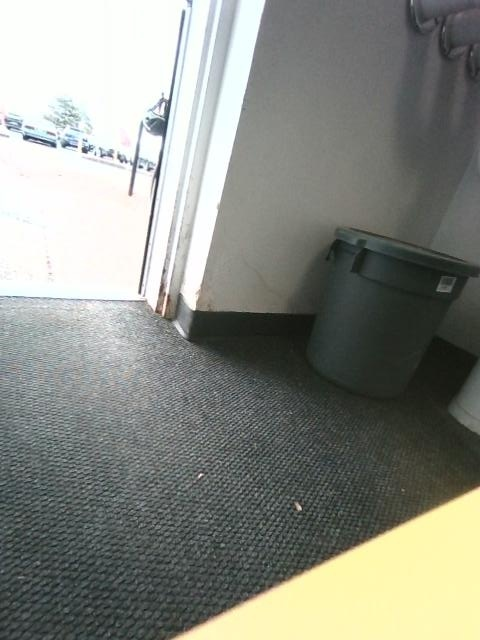ball: (307, 227, 478, 397)
